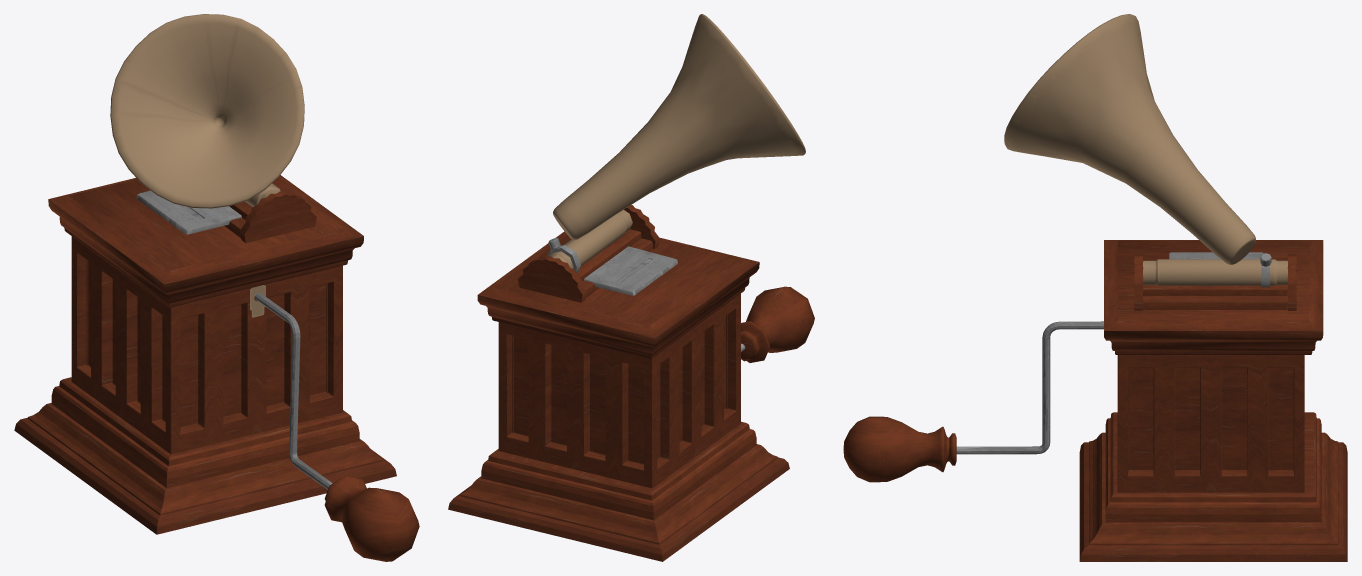
Rendered from m_Musicbox.FBX.
The picture shows the model from 3 angles, left to right: view 1: azimuth 30°, elevation 25°; view 2: azimuth 150°, elevation 25°; view 3: azimuth 270°, elevation 25°; orthographic projection. The views are drawn at different scales.
Parts seen in each view (by area): view 1: Musicbox2, Musicbox, Musicbox004, Musicbox003; view 2: Musicbox2, Musicbox, Musicbox004; view 3: Musicbox2, Musicbox, Musicbox004, Musicbox003.
Part boxes in pixels (x1,y1,x2,y2): Musicbox2: (14,175,396,534); Musicbox: (110,14,304,317); Musicbox004: (324,476,419,561); Musicbox003: (255,293,332,489); Musicbox2: (448,205,789,561); Musicbox: (547,14,805,295); Musicbox004: (741,286,814,362); Musicbox2: (1079,240,1347,561); Musicbox: (1004,14,1288,287); Musicbox004: (843,416,956,482); Musicbox003: (956,321,1103,454).
Size of the model in its own units: 23.92 by 42.24 by 41.7.
